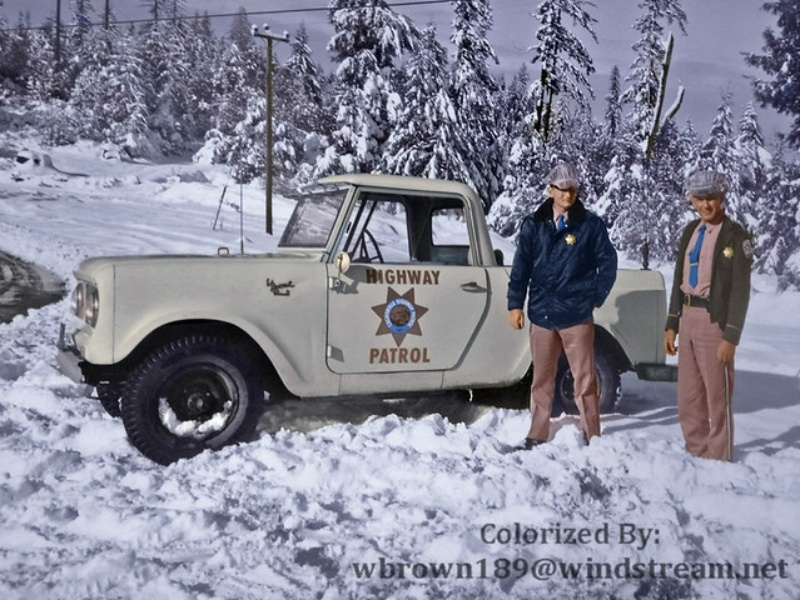policecar: (88, 134, 500, 429)
